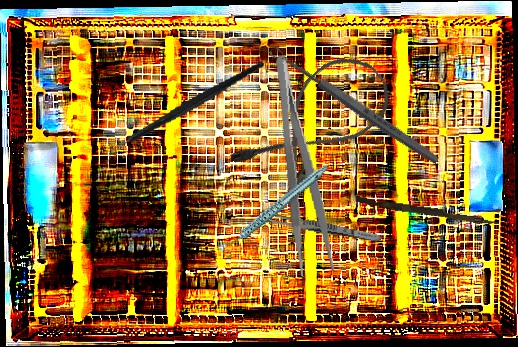Cannula: (226, 41, 402, 211)
Chopper: (92, 60, 277, 166)
Dressing Forceps: (269, 52, 337, 278), (257, 210, 383, 245)
Handpiece: (209, 164, 341, 250)
Pusher: (355, 195, 500, 227)
Surgical Spoon: (267, 43, 442, 167)
